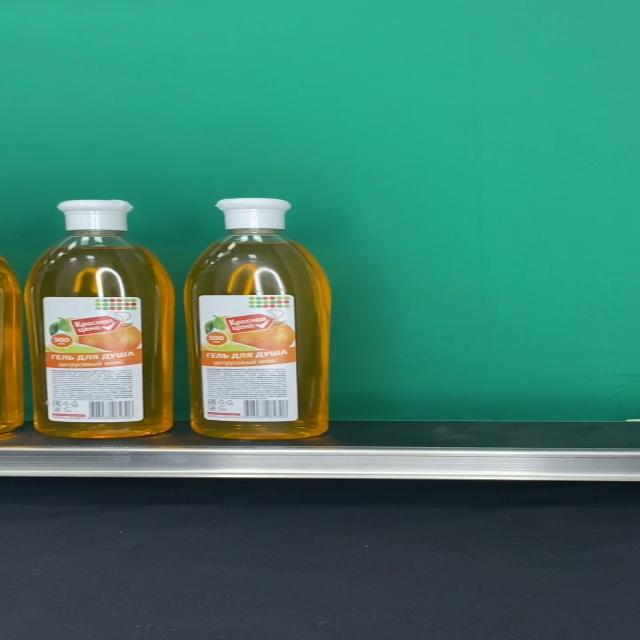Bottle: (23, 199, 174, 439), (182, 197, 332, 438)
Cap: (215, 198, 293, 230), (56, 200, 133, 232)
